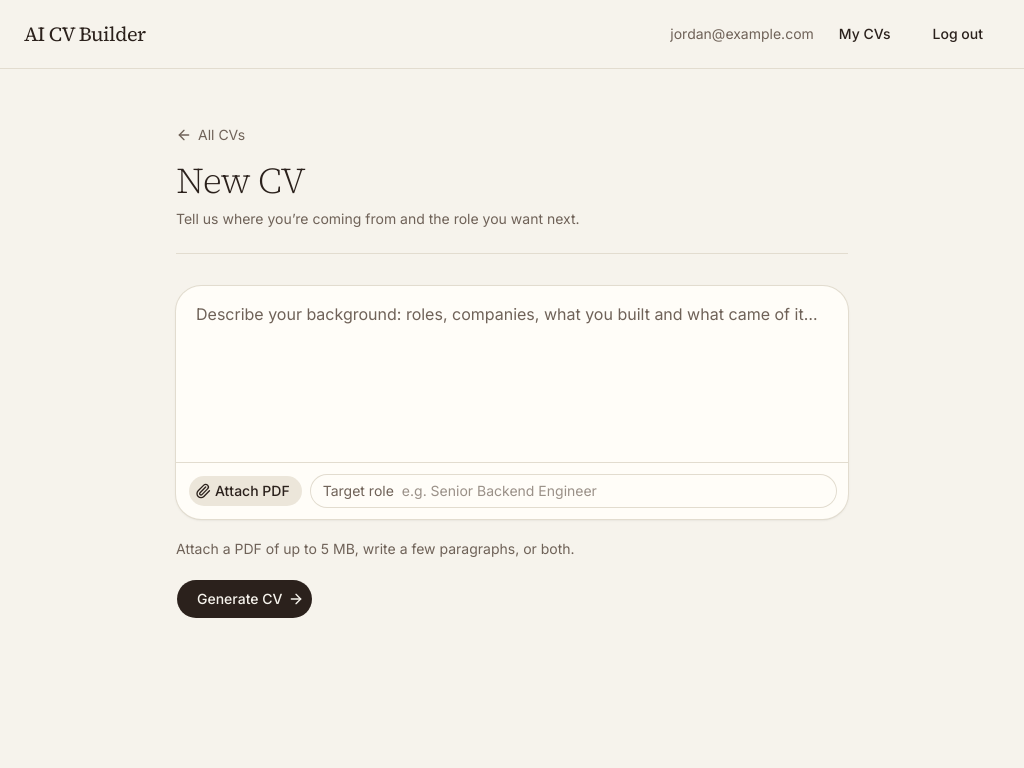
Test: NewCvPage › requires a target role and a background
Click the button "Generate CV" at [245, 599], box [176, 579, 313, 619]
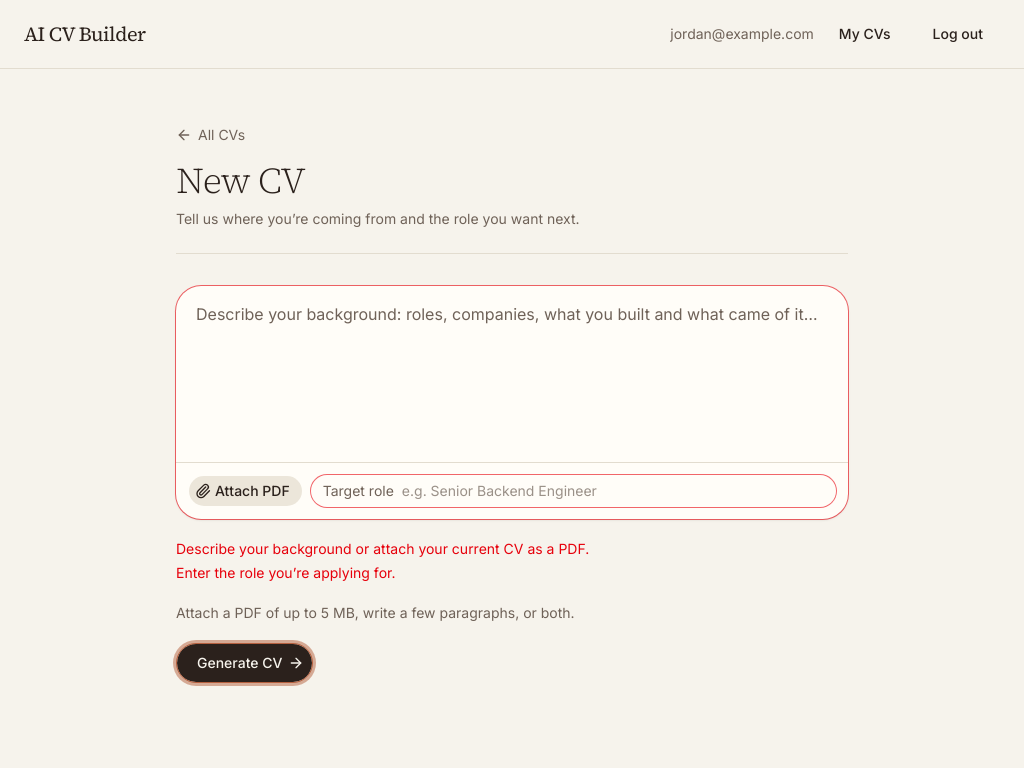
Now the list item "Enter the role you’re applying for." is shown, box [176, 564, 396, 581]
Now the list item "Describe your background or attach your current CV as a PDF." is shown, box [176, 540, 589, 557]
